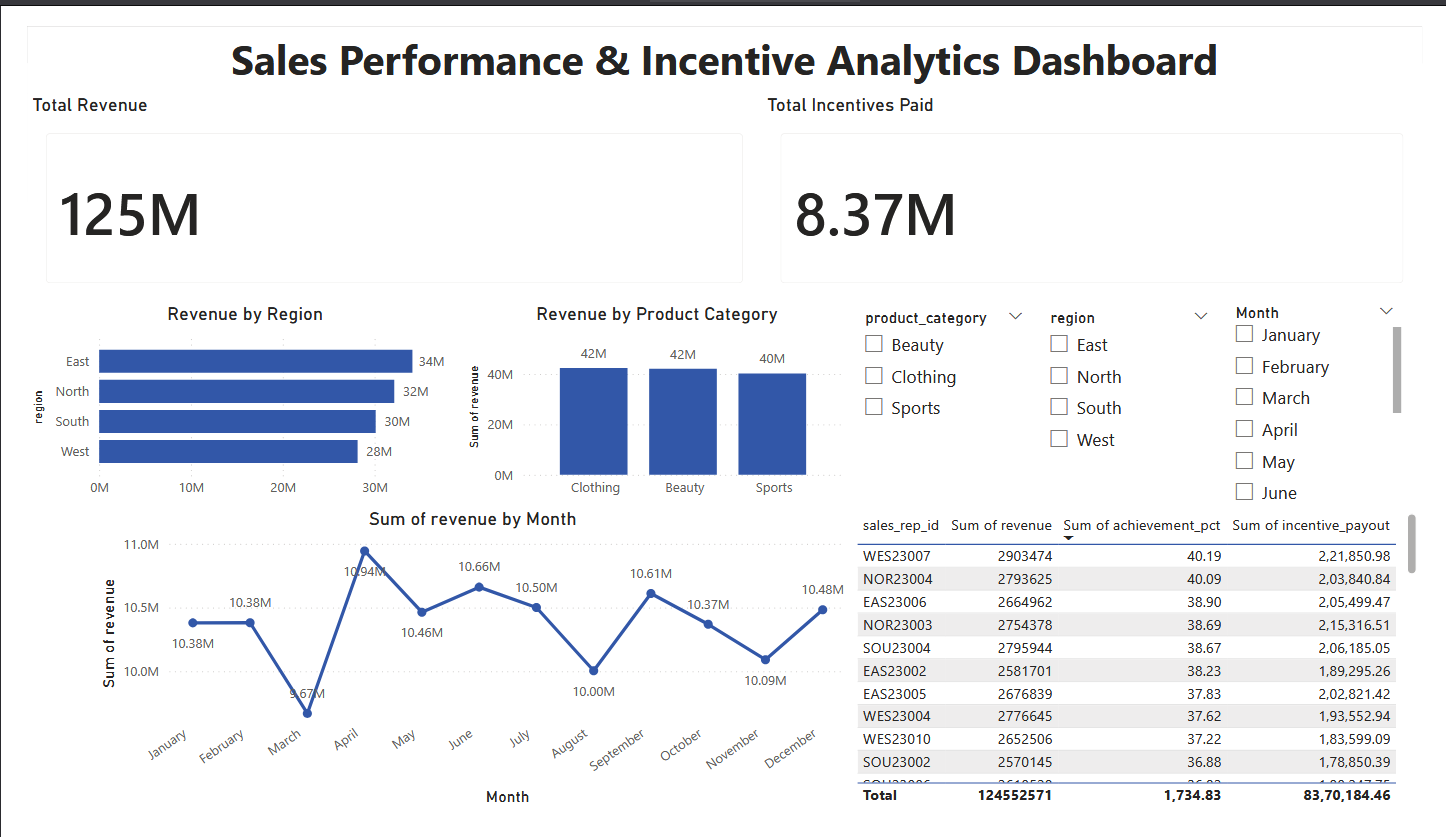

This screenshot's page, from the dashboard's own definition file:
{"tool":"powerbi","page":{"name":"Page 1","canvas":[1280,720],"ordinal":0},"visuals":[{"type":"cardVisual","title":"Total Revenue","fields":{"Data":["Sum(sales_performance_final.revenue)"]},"box":[0,62,674,192],"z":0},{"type":"cardVisual","title":"Total Incentives Paid","fields":{"Data":["Sum(sales_performance_final.incentive_payout)"]},"box":[674,62,606,192],"z":1},{"type":"clusteredBarChart","title":"Revenue by Region","fields":{"Category":["sales_performance_final.region"],"Y":["Sum(sales_performance_final.revenue)"]},"box":[0,254,400,188],"z":2},{"type":"clusteredColumnChart","title":"Revenue by Product Category","fields":{"Category":["sales_performance_final.product_category"],"Y":["Sum(sales_performance_final.revenue)"]},"box":[400,254,356,188],"z":3},{"type":"lineChart","fields":{"Category":["sales_performance_final.month.Variation.Date Hierarchy.Month"],"Y":["Sum(sales_performance_final.revenue)"]},"box":[62,442,694,278],"z":4},{"type":"slicer","fields":{"Values":["sales_performance_final.region"]},"box":[926,254,170,188],"z":5},{"type":"slicer","fields":{"Values":["sales_performance_final.product_category"]},"box":[756,254,170,188],"z":6},{"type":"slicer","fields":{"Values":["sales_performance_final.month.Variation.Date Hierarchy.Month"]},"box":[1096,250,170,194],"z":7},{"type":"textbox","box":[0,0,1280,62],"z":9},{"type":"tableEx","fields":{"Values":["sales_performance_final.sales_rep_id","Sum(sales_performance_final.revenue)","Sum(sales_performance_final.achievement_pct)","Sum(sales_performance_final.incentive_payout)"]},"box":[756,442,524,278],"z":10}]}

Visuals, with their boxes in screenshot pixels (x1, y1, x2, y2), scaled from the page's 1280x720 canvas onto the 1446x837 screenshot:
"Total Revenue" cardVisual: pyautogui.locateOnScreen(0, 72, 761, 295)
"Total Incentives Paid" cardVisual: pyautogui.locateOnScreen(761, 72, 1445, 295)
"Revenue by Region" clusteredBarChart: pyautogui.locateOnScreen(0, 295, 452, 514)
"Revenue by Product Category" clusteredColumnChart: pyautogui.locateOnScreen(452, 295, 854, 514)
lineChart - sales_performance_final.month.Variation.Date Hierarchy.Month x Sum(sales_performance_final.revenue): pyautogui.locateOnScreen(70, 514, 854, 836)
slicer - sales_performance_final.region: pyautogui.locateOnScreen(1046, 295, 1238, 514)
slicer - sales_performance_final.product_category: pyautogui.locateOnScreen(854, 295, 1046, 514)
slicer - sales_performance_final.month.Variation.Date Hierarchy.Month: pyautogui.locateOnScreen(1238, 291, 1430, 516)
textbox: pyautogui.locateOnScreen(0, 0, 1445, 72)
tableEx - sales_performance_final.sales_rep_id x Sum(sales_performance_final.revenue): pyautogui.locateOnScreen(854, 514, 1445, 836)
